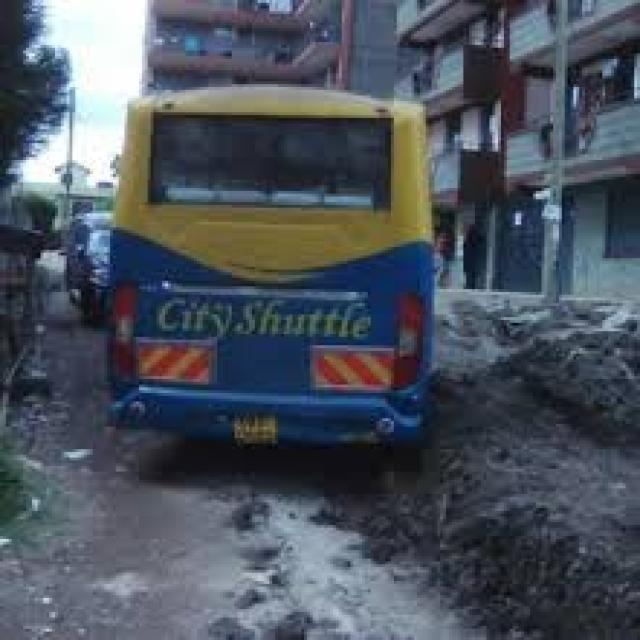bus: (72, 37, 458, 505)
